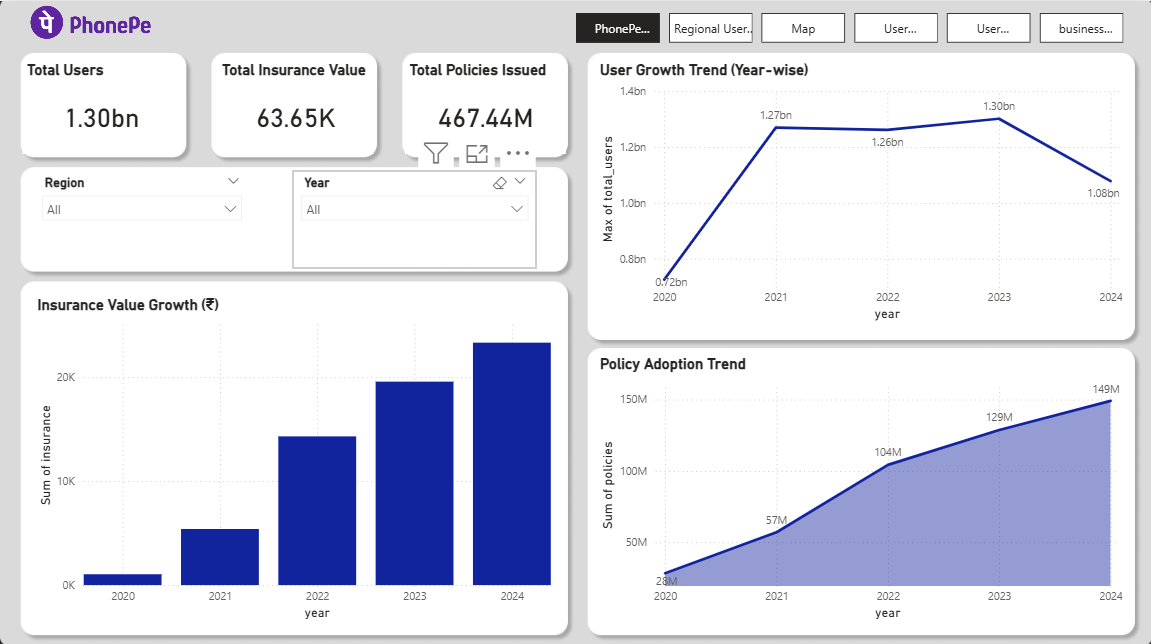

The page's visual inventory and layout, read from the dashboard file:
{"tool":"powerbi","page":{"name":"PhonePe Performance Overview","canvas":[1280,720],"ordinal":0},"visuals":[{"type":"card","title":"Total Users","fields":{"Values":["Max(vw_master_year_kpi.total_users)"]},"box":[25,66.7,175,103.3],"z":0},{"type":"card","title":"Total Insurance Value","fields":{"Values":["Sum(vw_master_year_kpi.total_insurance)"]},"box":[241.7,66.7,173.3,103.3],"z":1000},{"type":"card","title":"Total Policies Issued","fields":{"Values":["Sum(vw_master_year_kpi.total_policies)"]},"box":[450,66.7,178.3,103.3],"z":2000},{"type":"areaChart","title":"Policy Adoption Trend","fields":{"Category":["vw_master_year_kpi.year"],"Y":["Sum(vw_final_dashboard.policies)"]},"box":[661.7,393.3,590,298.3],"z":3000},{"type":"clusteredColumnChart","title":"Insurance Value Growth (₹)","fields":{"Y":["Sum(vw_final_dashboard.insurance)"],"Category":["vw_final_dashboard.year"]},"box":[36.7,326.7,580,365],"z":4000},{"type":"lineChart","title":"User Growth Trend (Year-wise)","fields":{"Y":["Max(vw_master_year_kpi.total_users)"],"Category":["vw_master_year_kpi.year"]},"box":[661.7,66.7,590,293.3],"z":6000},{"type":"slicer","fields":{"Values":["vw_final_dashboard.region"]},"box":[36.7,188.3,241.7,108.3],"z":7000},{"type":"slicer","fields":{"Values":["vw_final_dashboard.year"]},"box":[325,188.3,271.7,108.3],"z":8000},{"type":"pageNavigator","box":[640,13.8,611.2,33.8],"z":9000},{"type":"image","box":[0,0,200,48.3],"z":9001}]}

Visuals, with their boxes in screenshot pixels (x1, y1, x2, y2), scaled from the page's 1280x720 canvas onto the 1151x644 screenshot:
"Total Users" card: box(22, 60, 180, 152)
"Total Insurance Value" card: box(217, 60, 373, 152)
"Total Policies Issued" card: box(405, 60, 565, 152)
"Policy Adoption Trend" areaChart: box(595, 352, 1126, 619)
"Insurance Value Growth (₹)" clusteredColumnChart: box(33, 292, 555, 619)
"User Growth Trend (Year-wise)" lineChart: box(595, 60, 1126, 322)
slicer - vw_final_dashboard.region: box(33, 168, 250, 265)
slicer - vw_final_dashboard.year: box(292, 168, 537, 265)
pageNavigator: box(576, 12, 1125, 43)
image: box(0, 0, 180, 43)
